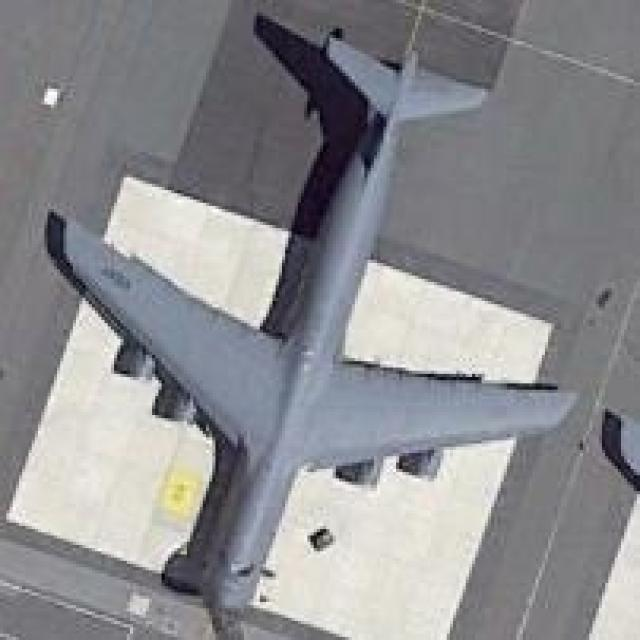C-5_TopDown: (22, 6, 580, 634)
